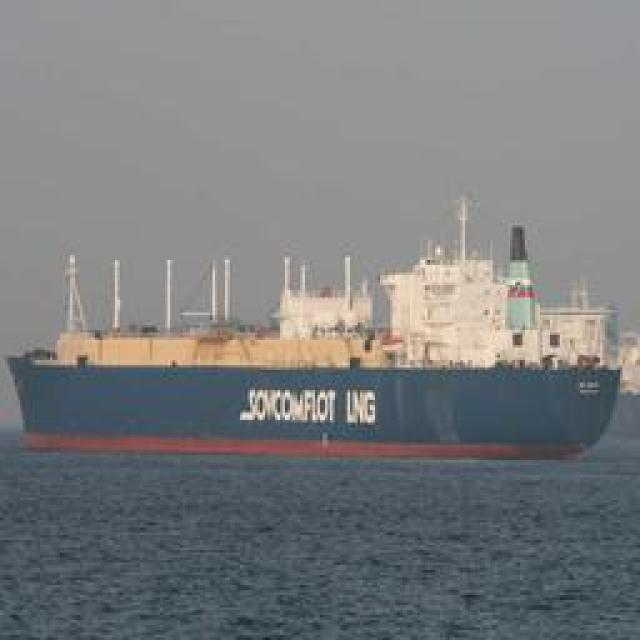CIV_Ship: (12, 246, 628, 462)
